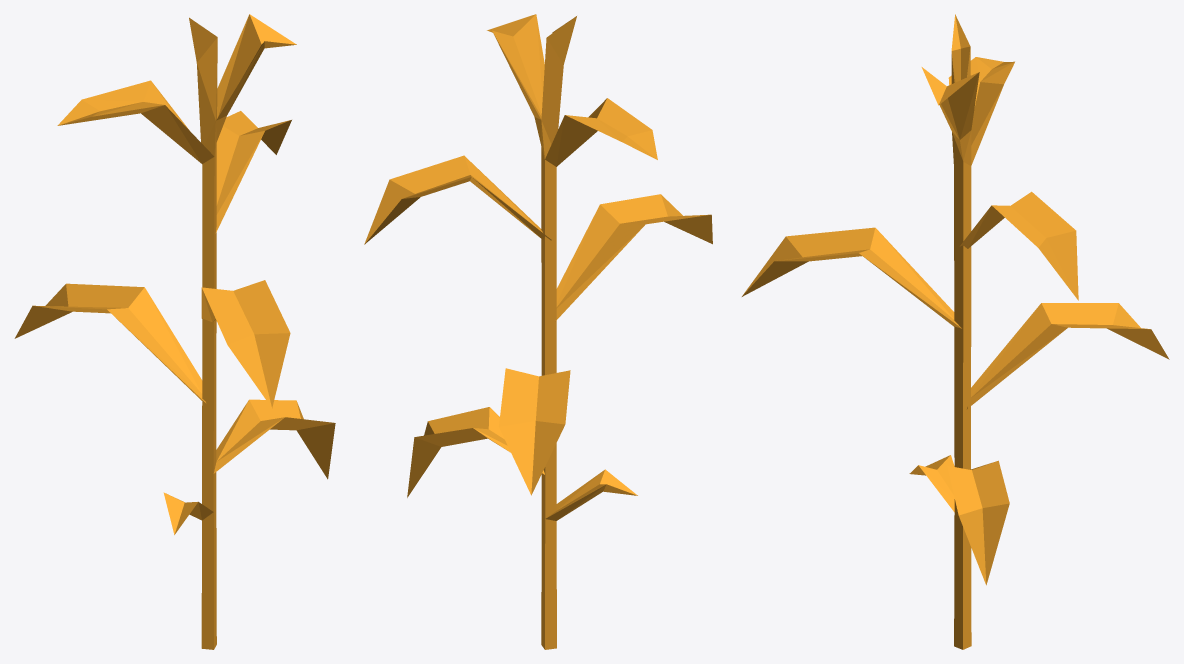
Rendered from SM_Corn_Young_A.fbx.
3 views of the same model, side by side, from view 1: azimuth 30°, elevation 25°; view 2: azimuth 150°, elevation 25°; view 3: azimuth 270°, elevation 25° (orthographic). The views are drawn at different scales.
Parts seen in each view (by area): view 1: corn-young-a; view 2: corn-young-a; view 3: corn-young-a.
Part boxes in pixels (x1=…): corn-young-a: x1=14, y1=14, x2=335, y2=649; corn-young-a: x1=364, y1=14, x2=712, y2=649; corn-young-a: x1=742, y1=14, x2=1169, y2=649.
Size of the model in its own units: 0.5978 by 1.39 by 0.8716.
